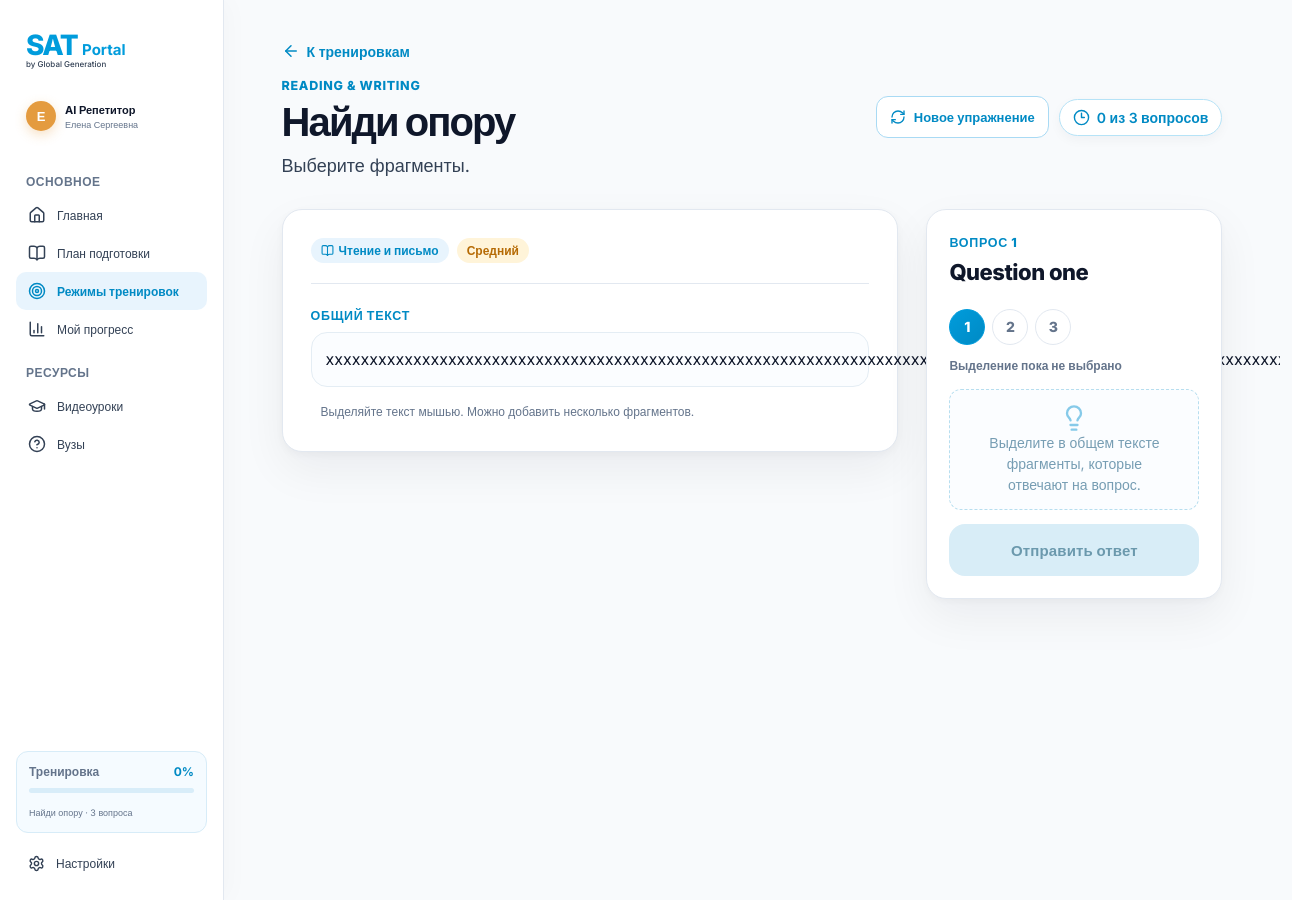
Test: App › regenerates the exercise and resets the session
Expected: the heading "Найди опору" is shown, [282, 97, 514, 146]
Click the button "Новое упражнение".
click(962, 117)  # box [876, 96, 1049, 138]
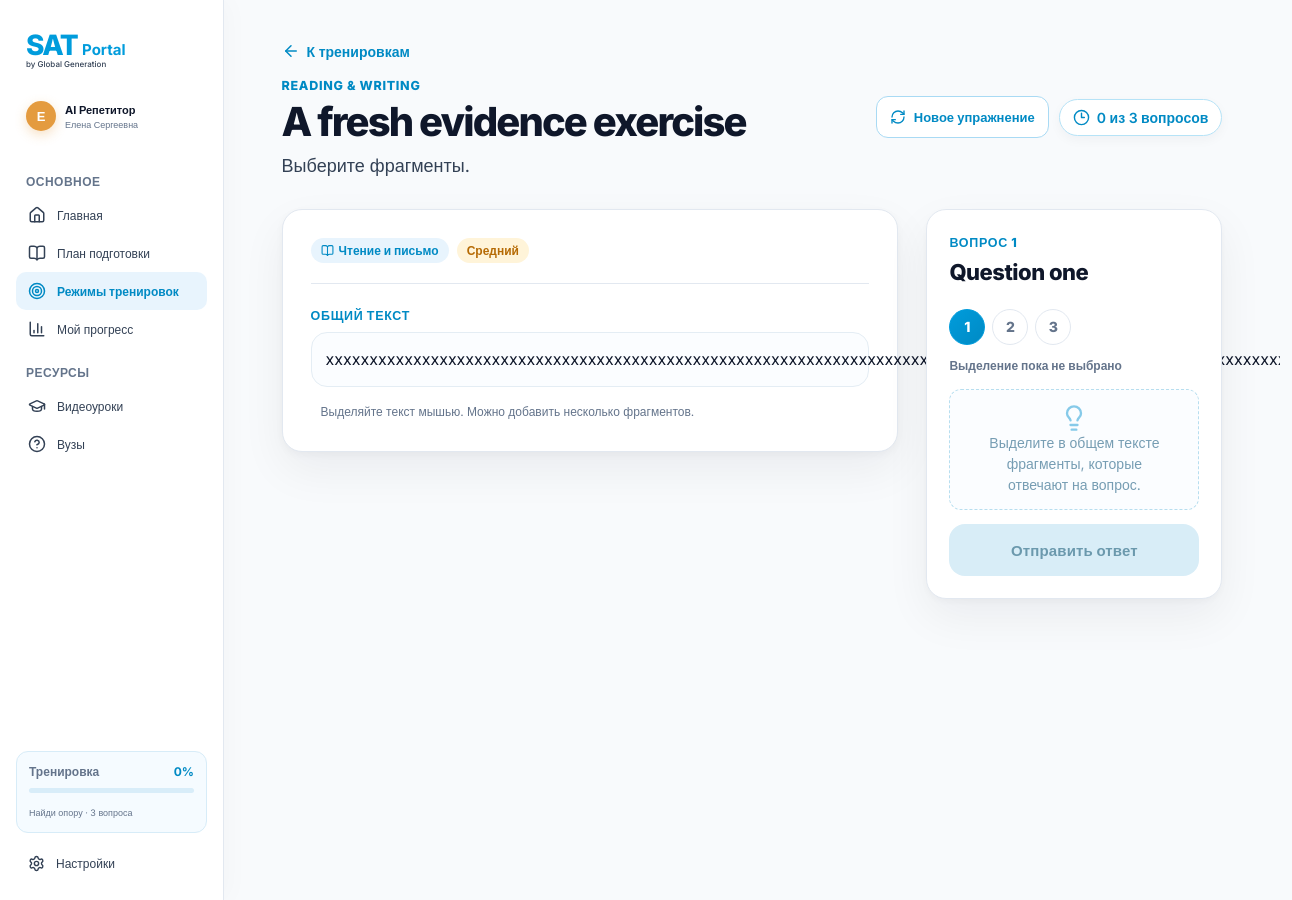
Expected: the text "0 из 3 вопросов" is shown, [1059, 98, 1222, 136]
Expected: the heading "A fresh evidence exercise" is shown, [282, 97, 746, 146]
